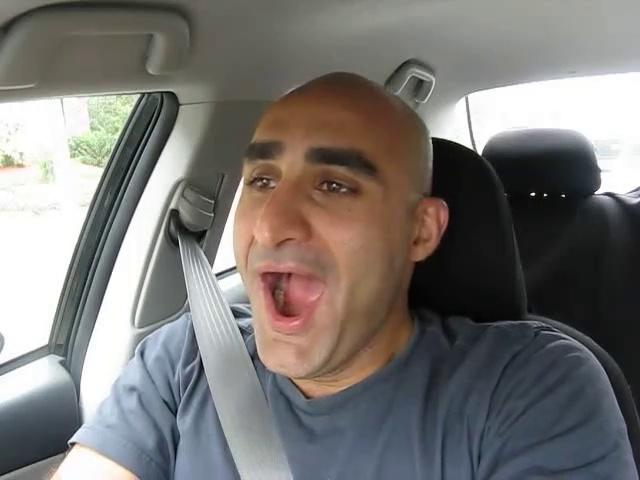open_eyeL: (232, 163, 292, 203)
open_eyeR: (298, 165, 381, 211)
yawn: (237, 250, 346, 341)
